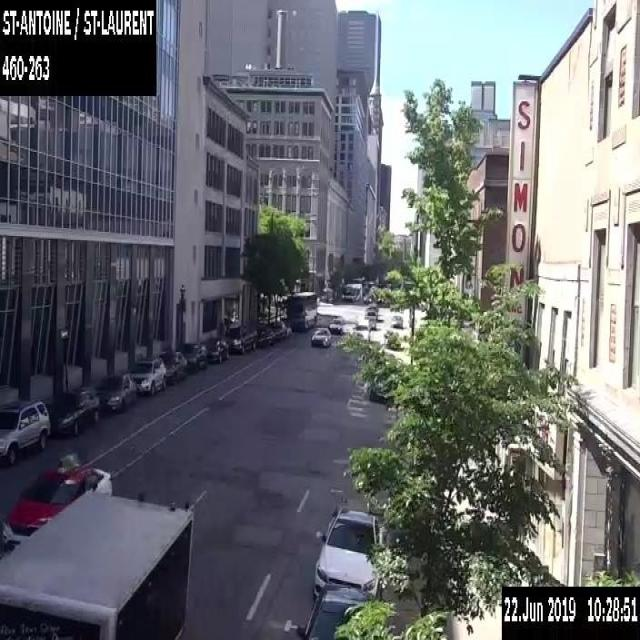bus: (286, 290, 316, 331)
vehicle: (0, 488, 195, 639), (0, 451, 113, 553), (312, 506, 384, 600), (296, 582, 379, 638), (0, 398, 50, 465), (48, 386, 98, 436), (94, 372, 136, 411), (129, 356, 166, 394), (158, 350, 186, 384), (227, 320, 256, 352), (339, 277, 363, 307), (181, 342, 207, 369), (205, 336, 228, 362), (310, 327, 331, 346), (257, 326, 275, 346), (270, 320, 286, 340), (363, 302, 378, 318), (328, 317, 342, 333), (362, 317, 375, 329), (390, 314, 402, 327)
